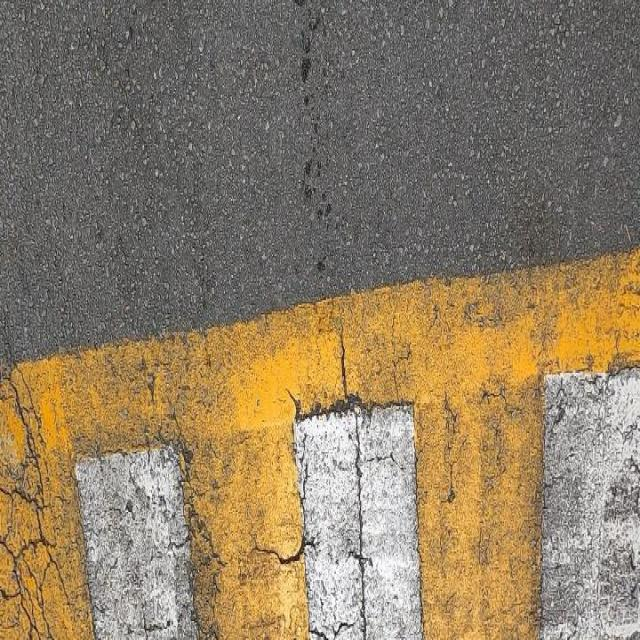cracks: (3, 296, 640, 640)
